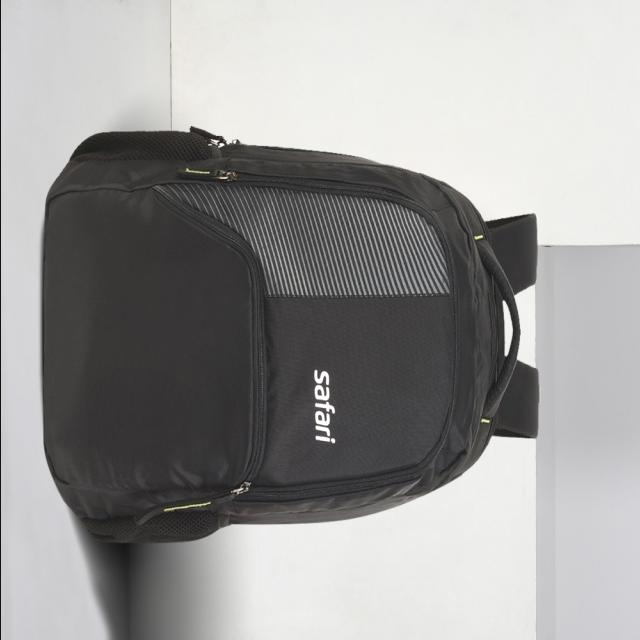backpack: (42, 128, 540, 546)
